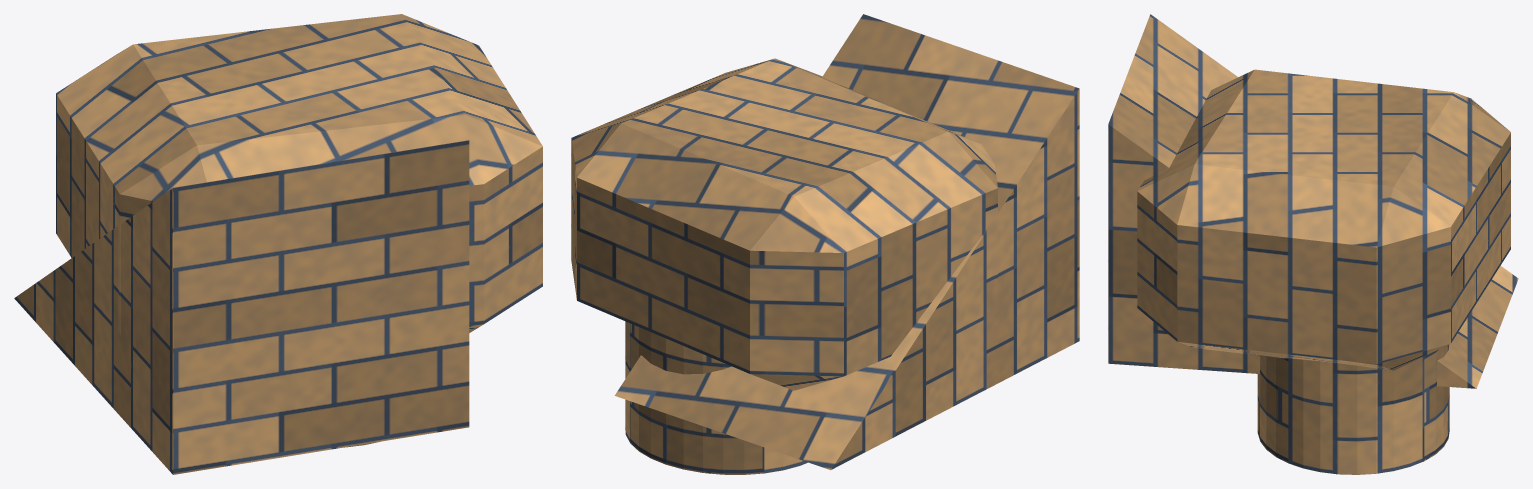
3 renders of one model, left to right at view 1: azimuth 30°, elevation 25°; view 2: azimuth 150°, elevation 25°; view 3: azimuth 270°, elevation 25°, orthographic. The views are drawn at different scales.
Visible parts, largest first — view 1: geometry_0; view 2: geometry_0; view 3: geometry_0.
Boxes of the visible parts, <box> form: geometry_0: <box>14,14,542,474</box>; geometry_0: <box>571,14,1079,474</box>; geometry_0: <box>1108,14,1518,474</box>.
Bounding box in the file's own units: 1.53 × 1.21 × 1.47.
1 material, 1 textured.
